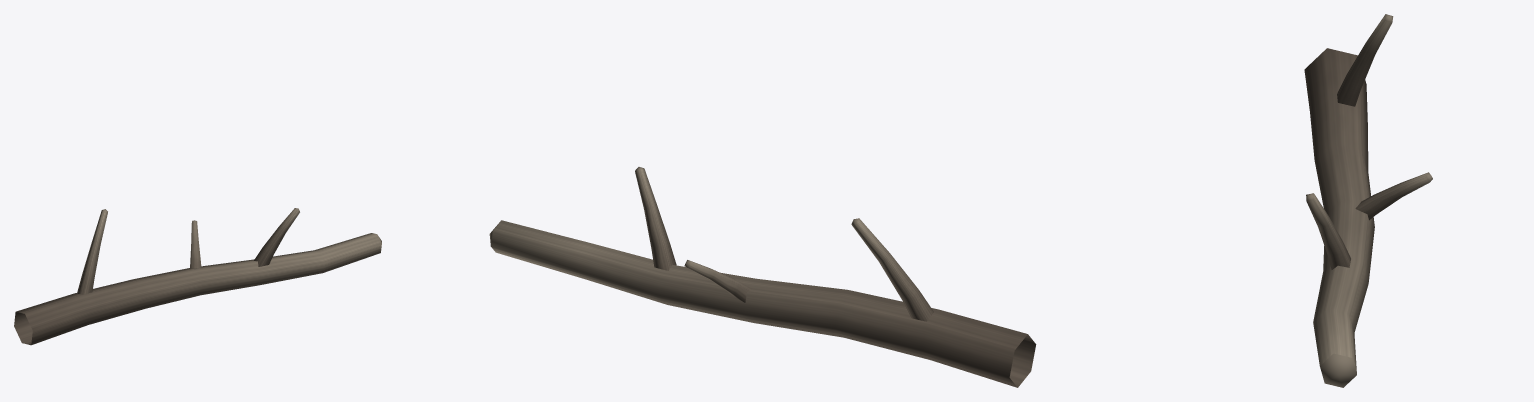
File: mistletoe.glb
The picture shows the model from 3 angles, left to right: view 1: azimuth 30°, elevation 25°; view 2: azimuth 150°, elevation 25°; view 3: azimuth 270°, elevation 25°; orthographic projection. The views are drawn at different scales.
Parts seen in each view (by area): view 1: mistletoe; view 2: mistletoe; view 3: mistletoe.
Part boxes in pixels (box(x1,y1,x2,y2)): mistletoe: box(14, 208, 381, 345); mistletoe: box(489, 167, 1036, 387); mistletoe: box(1304, 14, 1432, 387).
Bounding box in the file's own units: 0.765 × 0.4124 × 0.414.
Materials: 1 (1 with a texture image).
